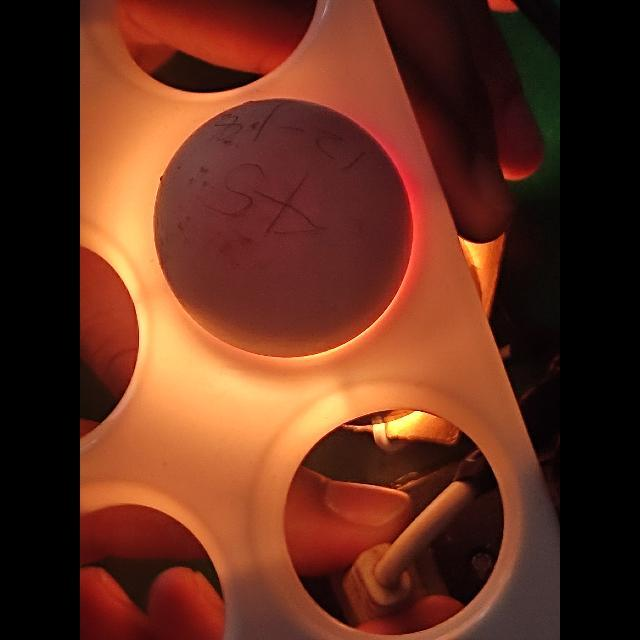B - Fair: (160, 95, 414, 359)
